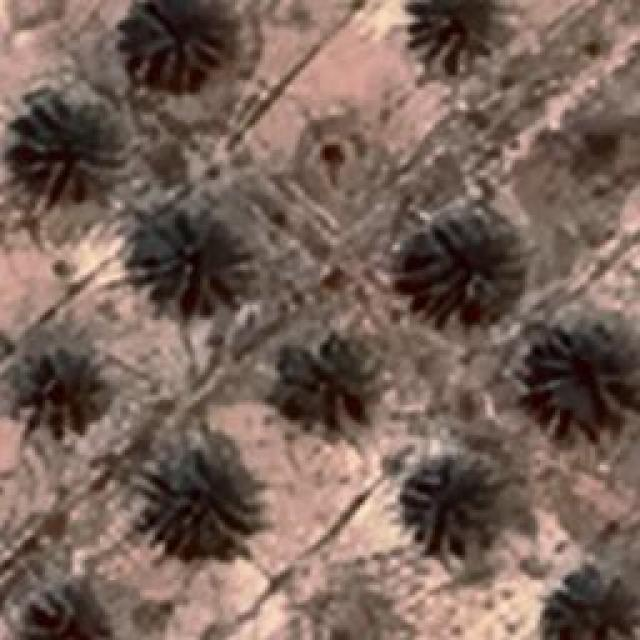PalmTree: (127, 208, 240, 318), (148, 448, 258, 550), (18, 97, 122, 195), (410, 220, 515, 312), (125, 0, 233, 88), (537, 328, 635, 422), (411, 456, 501, 554), (402, 0, 516, 70), (286, 335, 379, 420), (20, 349, 100, 439), (541, 562, 631, 640), (14, 575, 122, 640)
